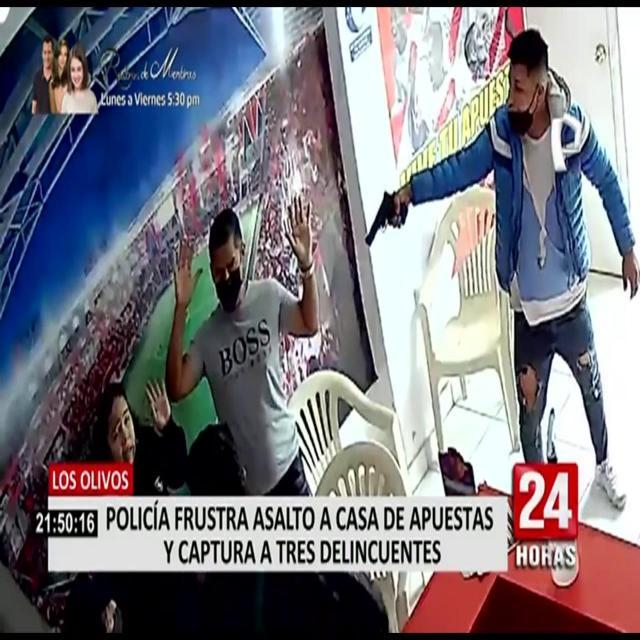weapon: (360, 170, 408, 264)
